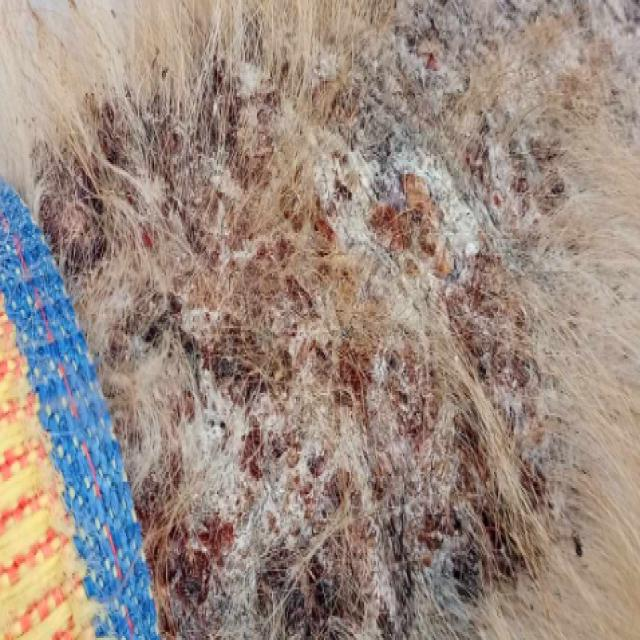demodicosis: (86, 64, 530, 571)
